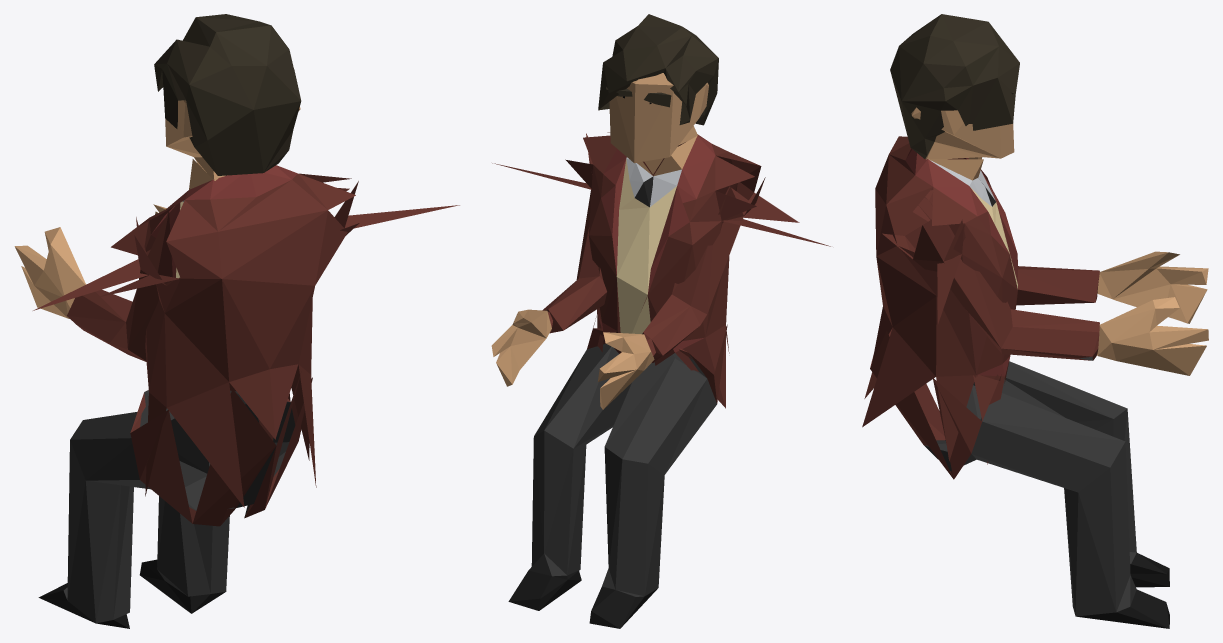
File: Seated_Familyfriend.obj
The picture shows the model from 3 angles, left to right: view 1: azimuth 30°, elevation 25°; view 2: azimuth 150°, elevation 25°; view 3: azimuth 270°, elevation 25°; orthographic projection. The views are drawn at different scales.
Parts seen in each view (by area): view 1: Seated_Familyfriend; view 2: Seated_Familyfriend; view 3: Seated_Familyfriend.
Boxes of the visible parts, left/top/right/bottom form: Seated_Familyfriend: left=14, top=14, right=459, bottom=628; Seated_Familyfriend: left=491, top=14, right=830, bottom=628; Seated_Familyfriend: left=862, top=14, right=1208, bottom=628.
Bounding box in the file's own units: 1.04 × 1.5 × 0.8149.
1 material, 1 textured.
